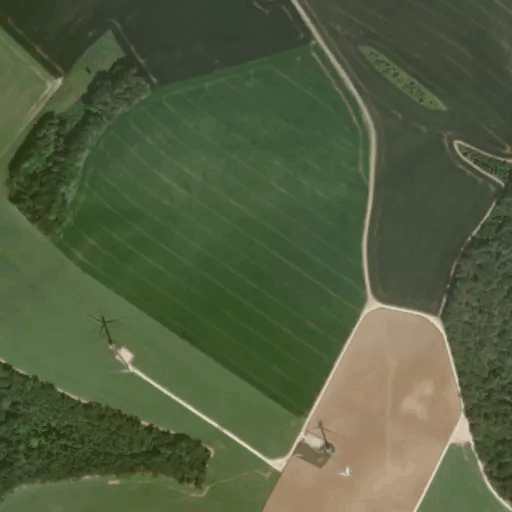wt: (83, 308, 156, 383), (300, 407, 358, 479)
